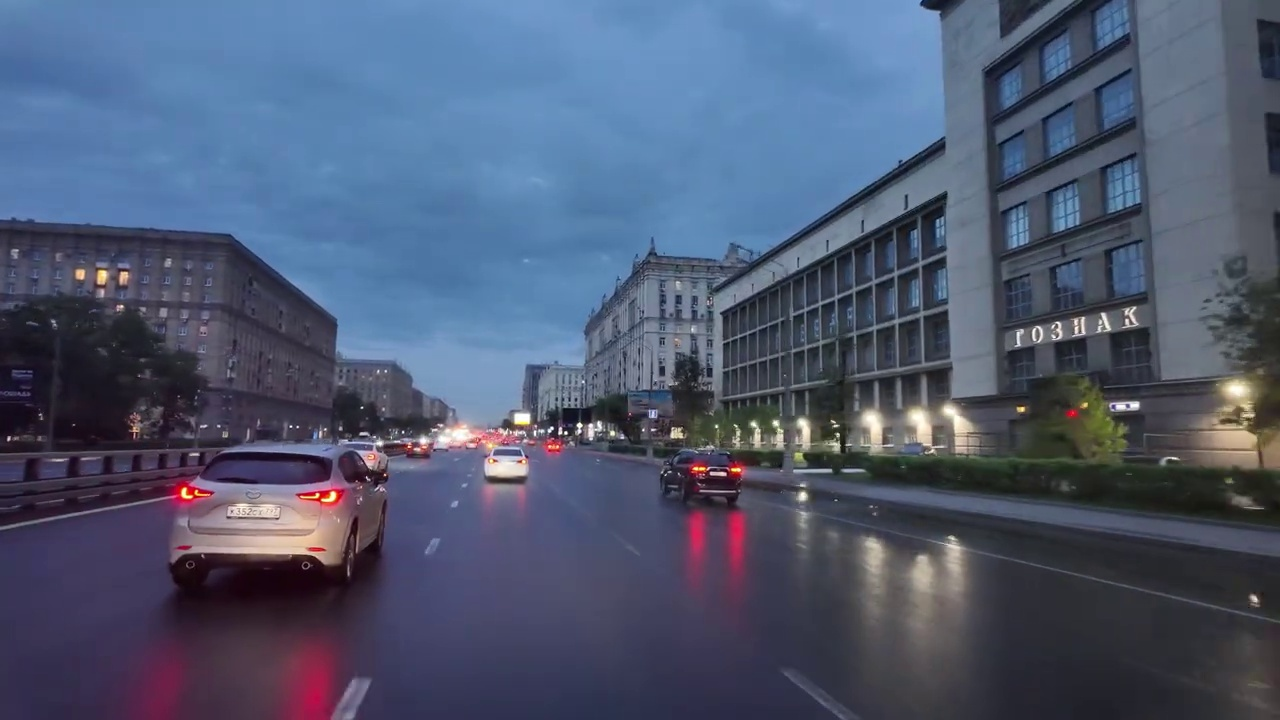apagada: (897, 136, 947, 179)
